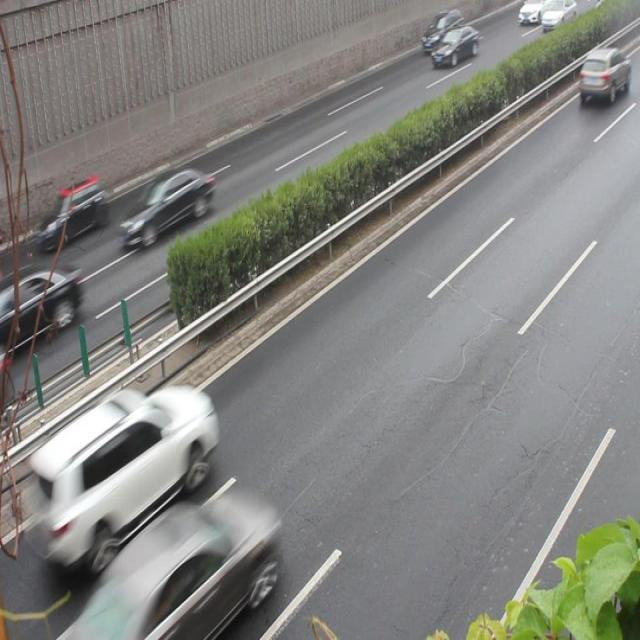car: (48, 385, 215, 557), (88, 496, 270, 640), (120, 166, 214, 250), (1, 267, 82, 340), (38, 173, 107, 250), (576, 48, 629, 104)
